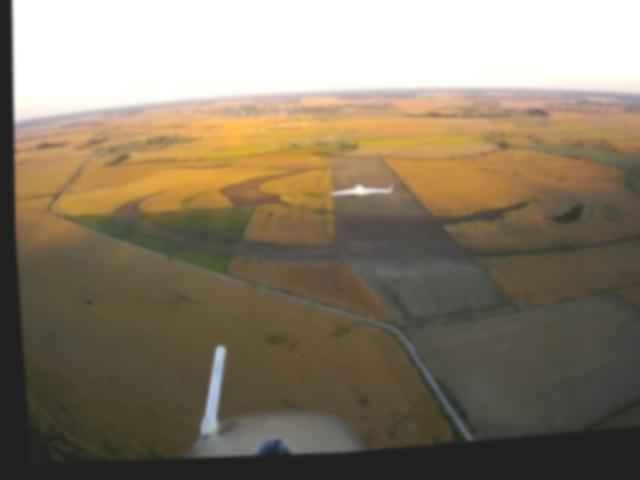plane: (329, 187, 389, 206)
